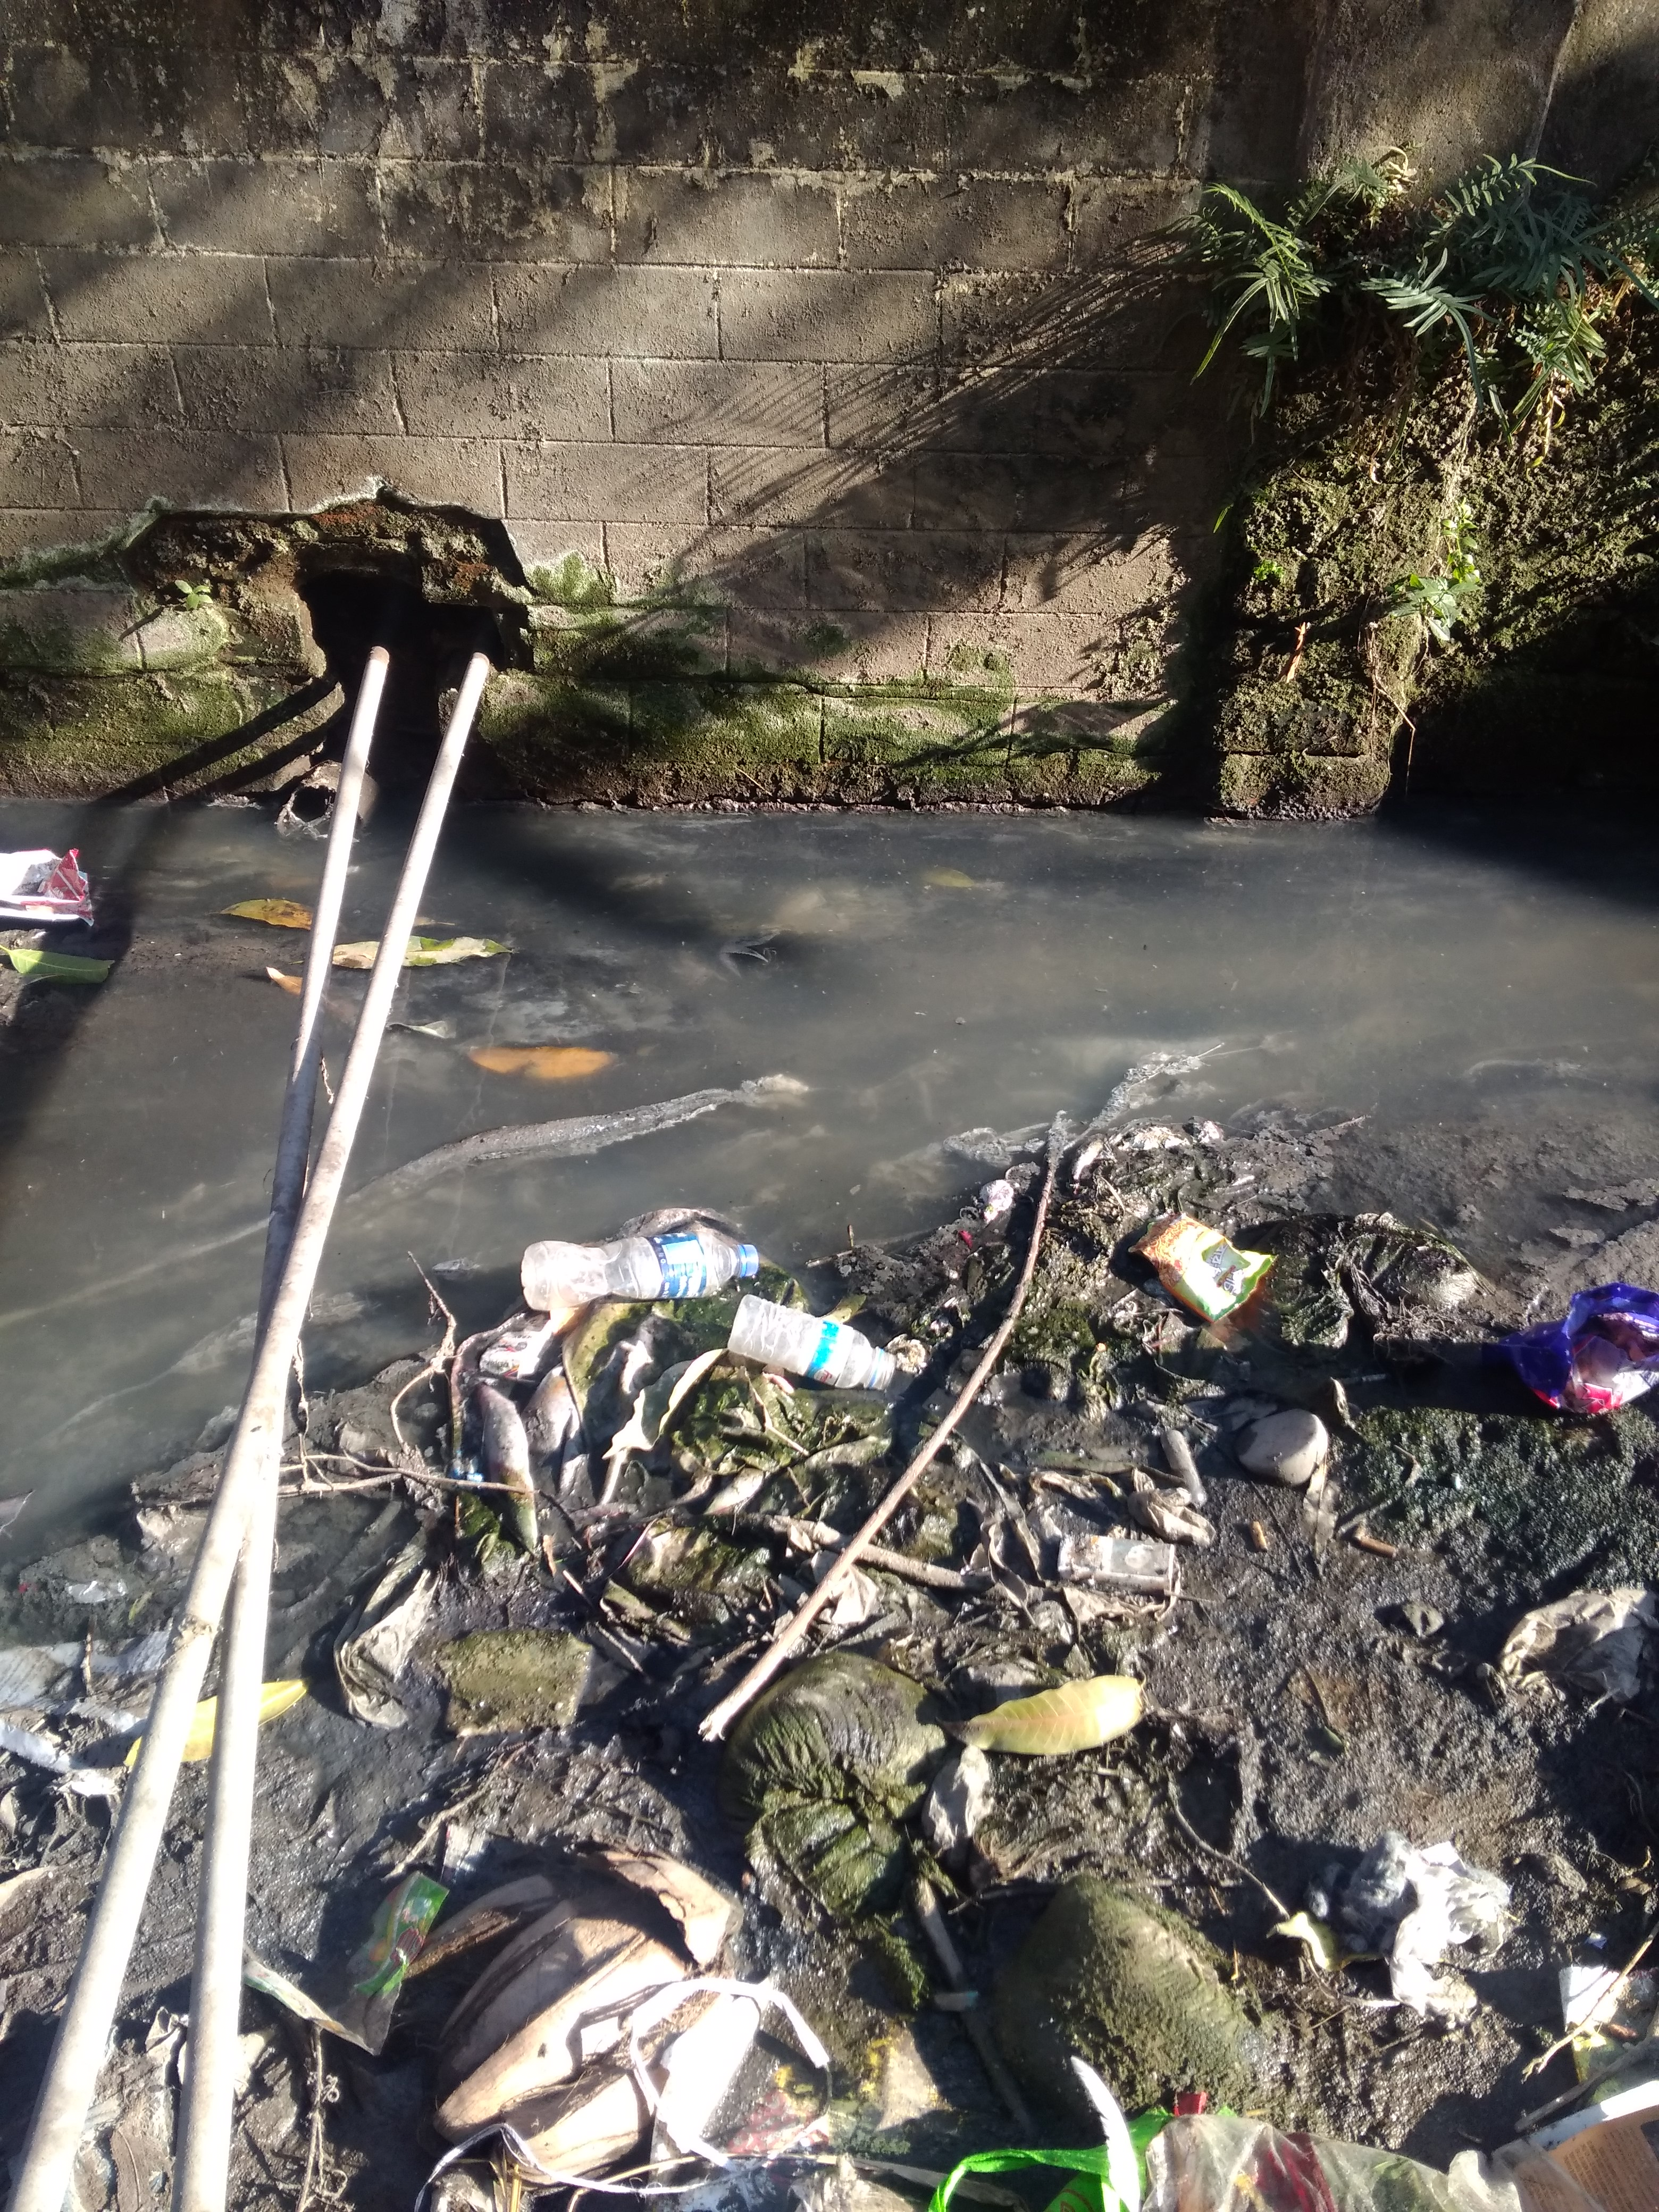Plastic Bottle: (521, 1231, 760, 1310), (728, 1294, 896, 1390)
